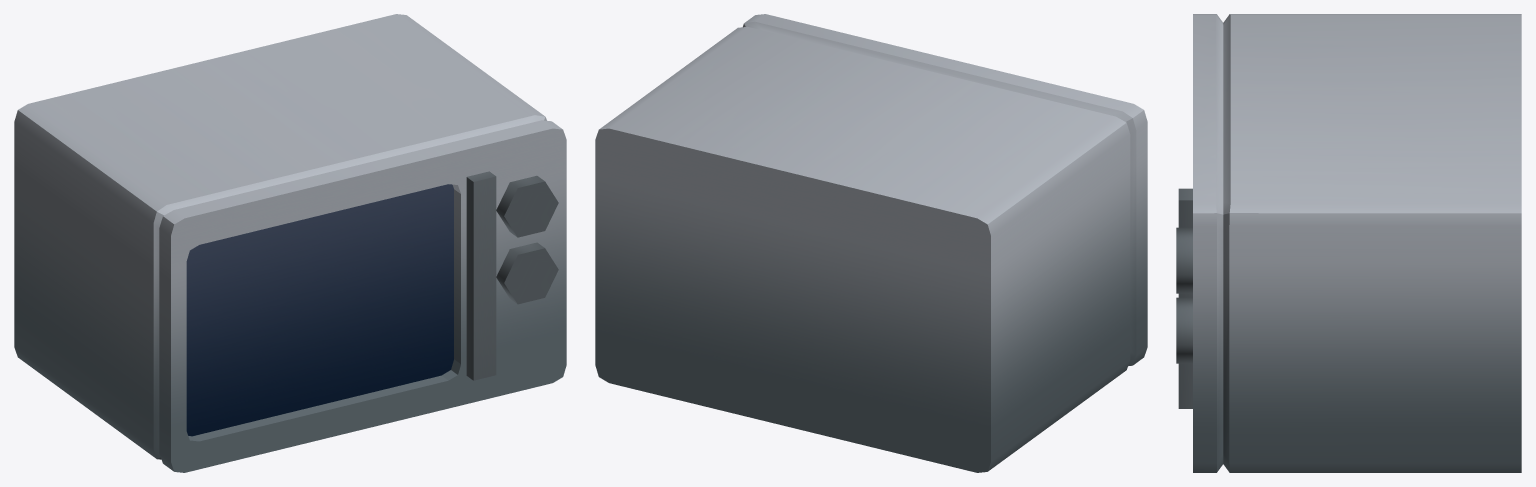
File: Microwave_01.fbx
The picture shows the model from 3 angles, left to right: view 1: azimuth 30°, elevation 25°; view 2: azimuth 150°, elevation 25°; view 3: azimuth 270°, elevation 25°; orthographic projection. The views are drawn at different scales.
Parts seen in each view (by area): view 1: Box015; view 2: Box015; view 3: Box015.
Part boxes in pixels (x1,y1,x2,y2): Box015: (14, 14, 566, 472); Box015: (595, 14, 1147, 472); Box015: (1176, 14, 1521, 472).
Bounding box in the file's own units: 100 × 61.95 × 72.32.
